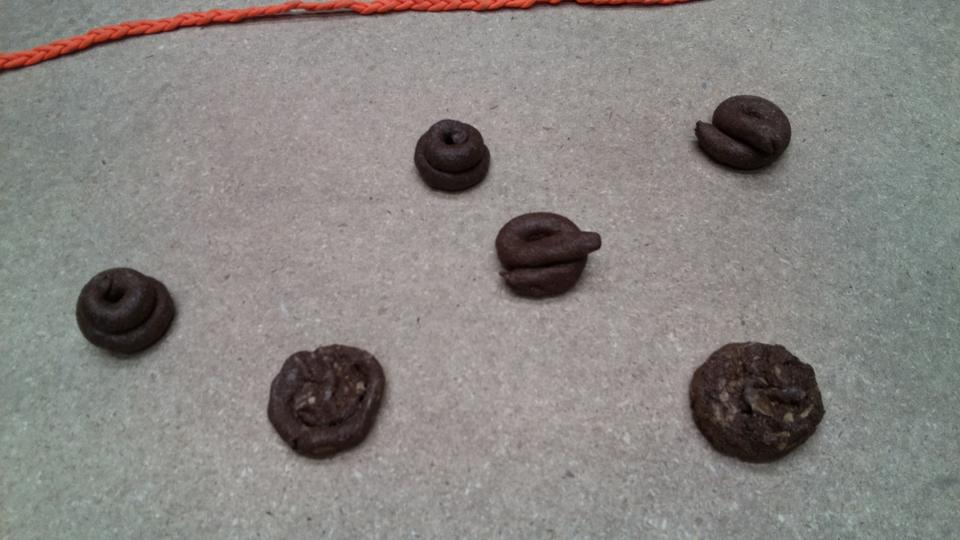poop: (686, 335, 830, 470), (265, 339, 389, 463), (71, 261, 180, 365), (492, 209, 606, 301), (691, 91, 798, 177), (412, 114, 491, 198)
rope: (1, 1, 720, 75)
